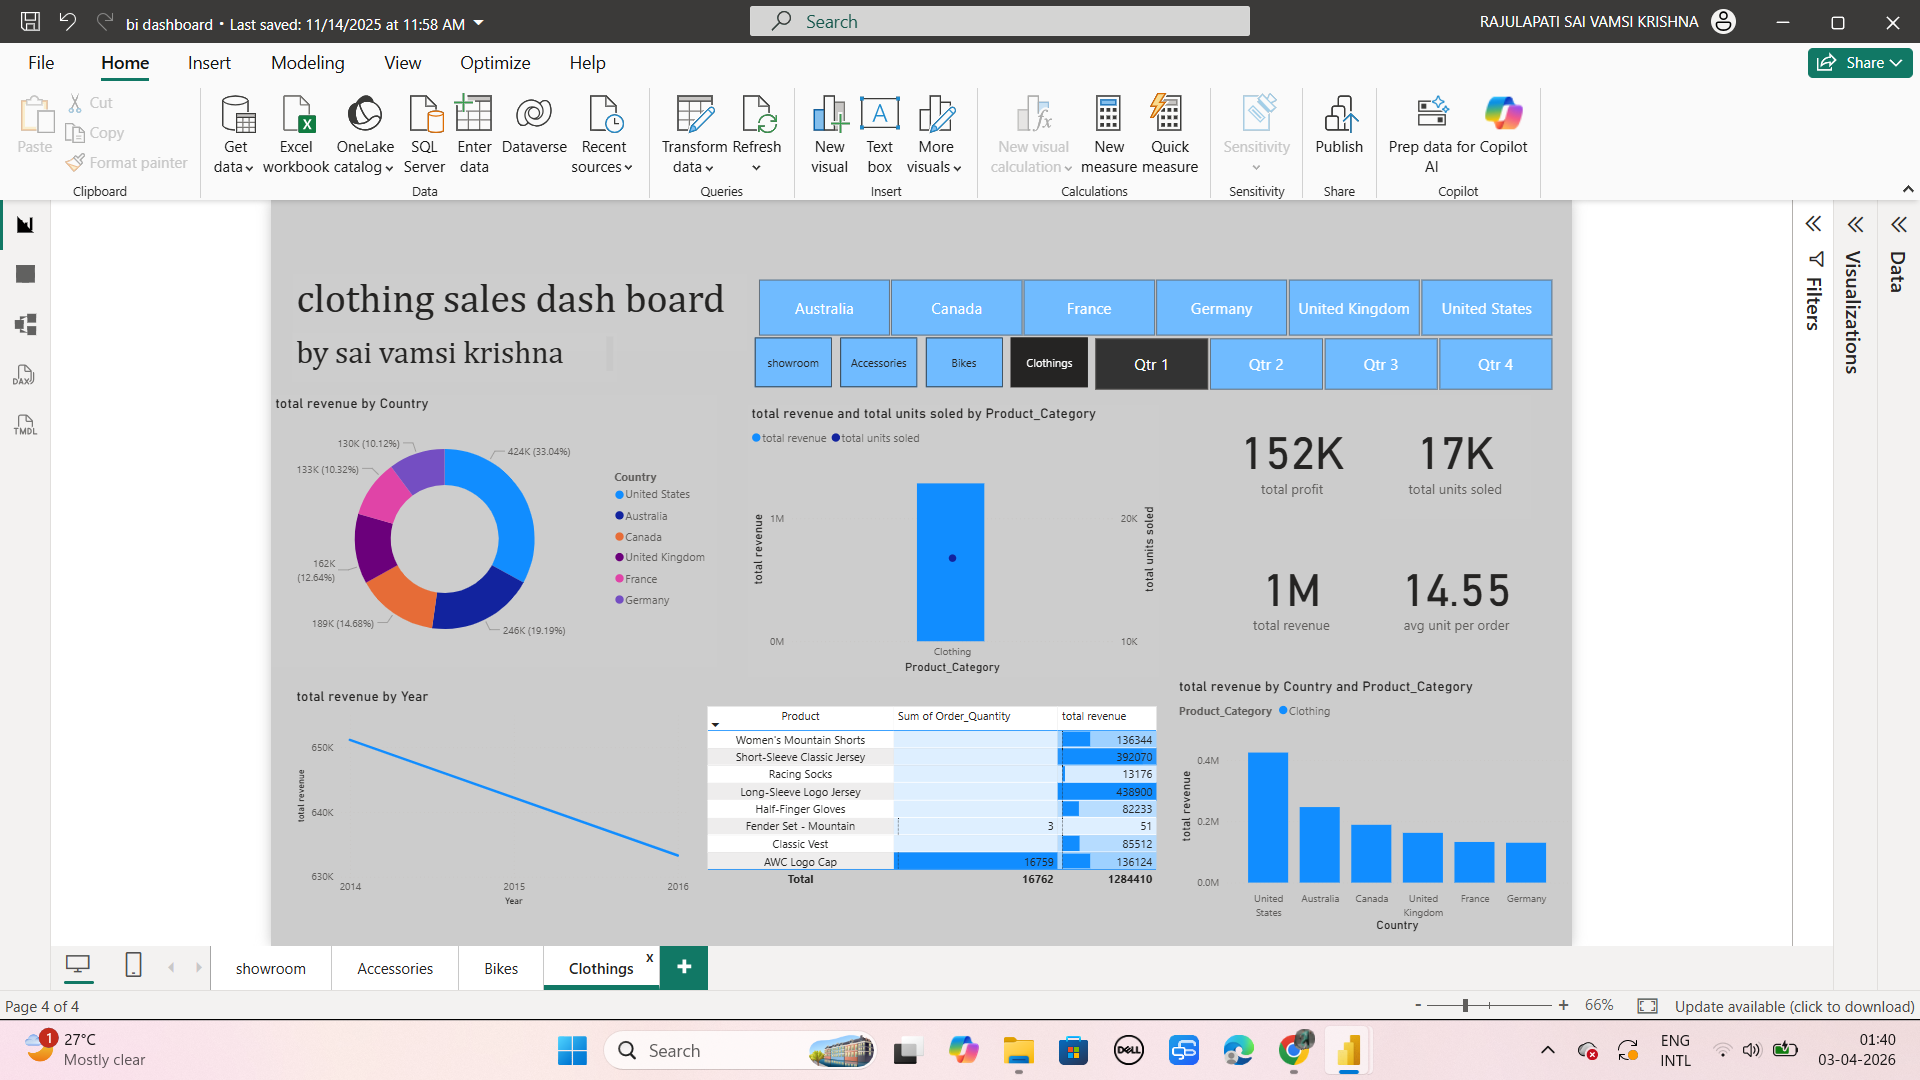

The page's visual inventory and layout, read from the dashboard file:
{"tool":"powerbi","page":{"name":"Clothings","canvas":[1570,900],"ordinal":3},"visuals":[{"type":"slicer","fields":{"Values":["BikeSales-DB.Country"]},"box":[562.5,89,1007.4,81.4],"z":0},{"type":"slicer","fields":{"Values":["BikeSales-DB.Date.Variation.Date Hierarchy.Quarter"]},"box":[968.2,159.9,601.7,75.4],"z":1000},{"type":"card","fields":{"Values":["BikeSales-DB.total revenue"]},"box":[1131,399.6,200.6,149.3],"z":3000},{"type":"card","fields":{"Values":["BikeSales-DB.avg unit per order"]},"box":[1339.1,399.6,182.5,149.3],"z":4000},{"type":"card","fields":{"Values":["BikeSales-DB.total units soled"]},"box":[1337.6,235.3,182.5,149.3],"z":5000},{"type":"card","fields":{"Values":["BikeSales-DB.total profit"]},"box":[1138.6,235.3,187,149.3],"z":6000},{"type":"donutChart","fields":{"Category":["BikeSales-DB.Country"],"Y":["BikeSales-DB.total revenue"]},"box":[0,235.3,538.4,328.8],"z":7000},{"type":"lineClusteredColumnComboChart","fields":{"Category":["BikeSales-DB.Product_Category"],"Y":["BikeSales-DB.total revenue"],"Y2":["BikeSales-DB.total units soled"]},"box":[574.6,247.3,497.7,328.8],"z":8000},{"type":"lineChart","fields":{"Category":["BikeSales-DB.Year"],"Y":["BikeSales-DB.total revenue"]},"box":[25,588.3,483.3,268.3],"z":9000},{"type":"tableEx","fields":{"Values":["BikeSales-DB.Product","Sum(BikeSales-DB.Order_Quantity)","BikeSales-DB.total revenue"]},"box":[520,606.7,553.3,268.3],"z":10000},{"type":"textbox","box":[25.6,89,548.9,93.5],"z":11000},{"type":"textbox","box":[25.6,159.9,392.1,60.3],"z":12000},{"type":"columnChart","fields":{"Category":["BikeSales-DB.Country"],"Series":["BikeSales-DB.Product_Category"],"Y":["BikeSales-DB.total revenue"]},"box":[1090.3,576.1,479.6,312.2],"z":13000},{"type":"pageNavigator","box":[584,166.6,402.3,60.6],"z":13001}]}

Visuals, with their boxes on the page's 1570x900 design canvas (x1, y1, x2, y2). These are canvas units, not pixel positions in the 1920x1080 screenshot, which may show the page scaled, cropped or inside an application window:
slicer - BikeSales-DB.Country: select_region(562, 89, 1570, 170)
slicer - BikeSales-DB.Date.Variation.Date Hierarchy.Quarter: select_region(968, 160, 1570, 235)
card - BikeSales-DB.total revenue: select_region(1131, 400, 1332, 549)
card - BikeSales-DB.avg unit per order: select_region(1339, 400, 1522, 549)
card - BikeSales-DB.total units soled: select_region(1338, 235, 1520, 385)
card - BikeSales-DB.total profit: select_region(1139, 235, 1326, 385)
donutChart - BikeSales-DB.Country x BikeSales-DB.total revenue: select_region(0, 235, 538, 564)
lineClusteredColumnComboChart - BikeSales-DB.Product_Category x BikeSales-DB.total revenue: select_region(575, 247, 1072, 576)
lineChart - BikeSales-DB.Year x BikeSales-DB.total revenue: select_region(25, 588, 508, 857)
tableEx - BikeSales-DB.Product x Sum(BikeSales-DB.Order_Quantity): select_region(520, 607, 1073, 875)
textbox: select_region(26, 89, 574, 182)
textbox: select_region(26, 160, 418, 220)
columnChart - BikeSales-DB.Country x BikeSales-DB.Product_Category: select_region(1090, 576, 1570, 888)
pageNavigator: select_region(584, 167, 986, 227)
